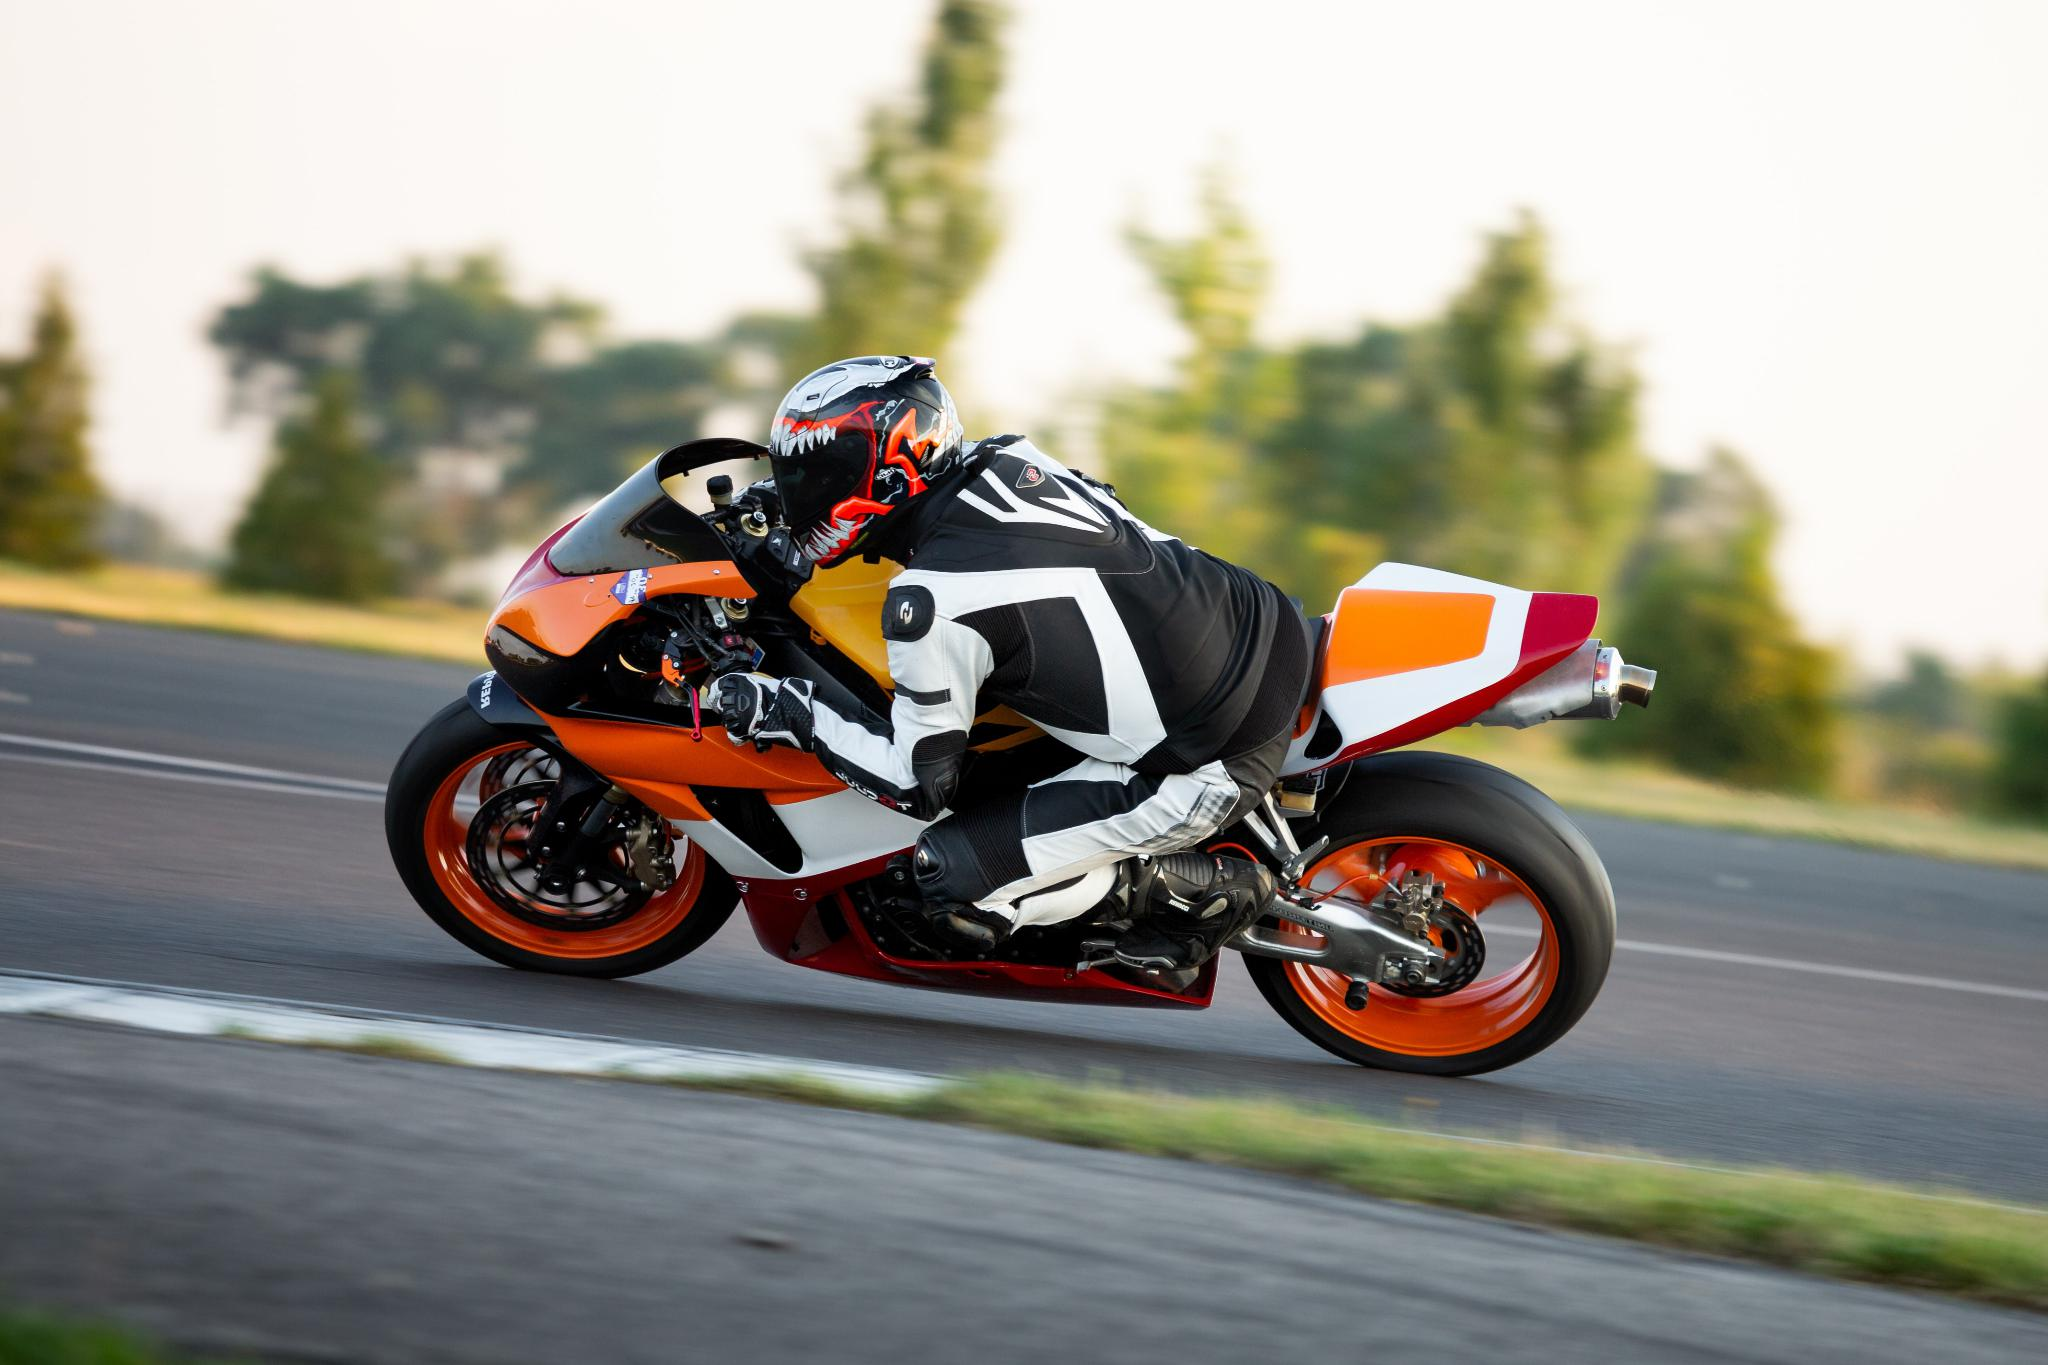motorcycle: (387, 404, 1693, 1108)
